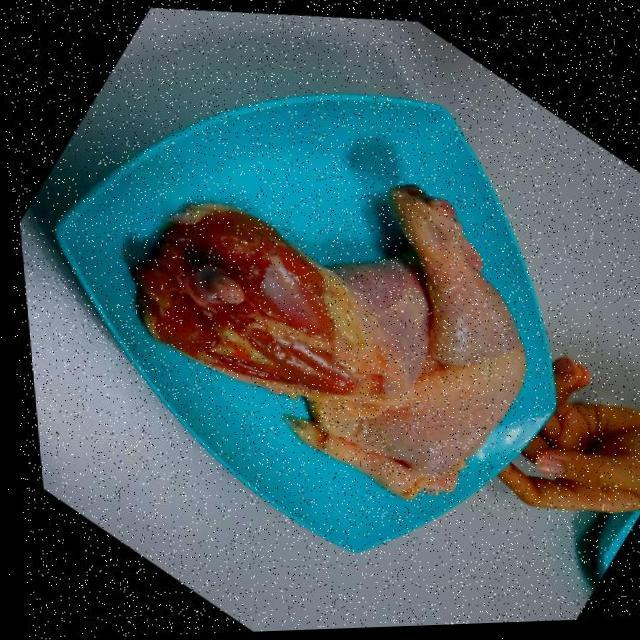quater: (111, 159, 452, 407), (310, 170, 518, 495)
